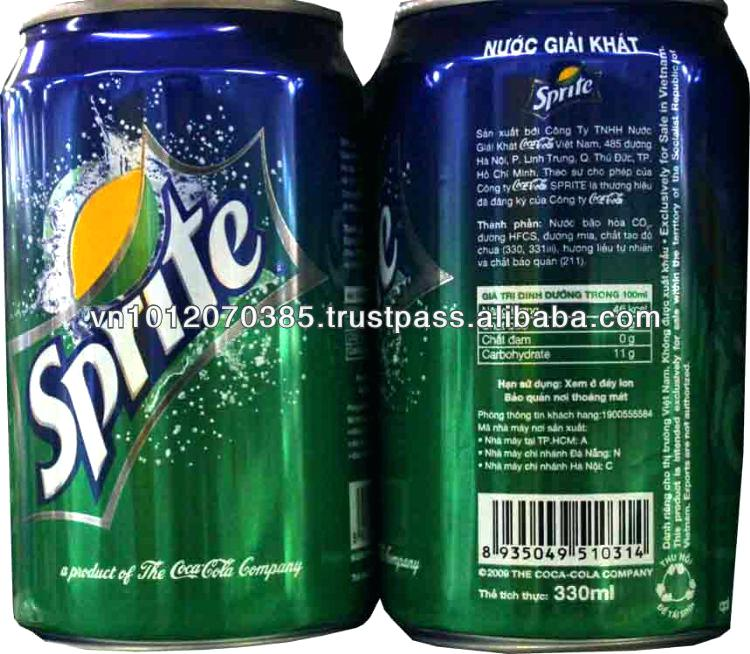sprite: (24, 182, 263, 506)
